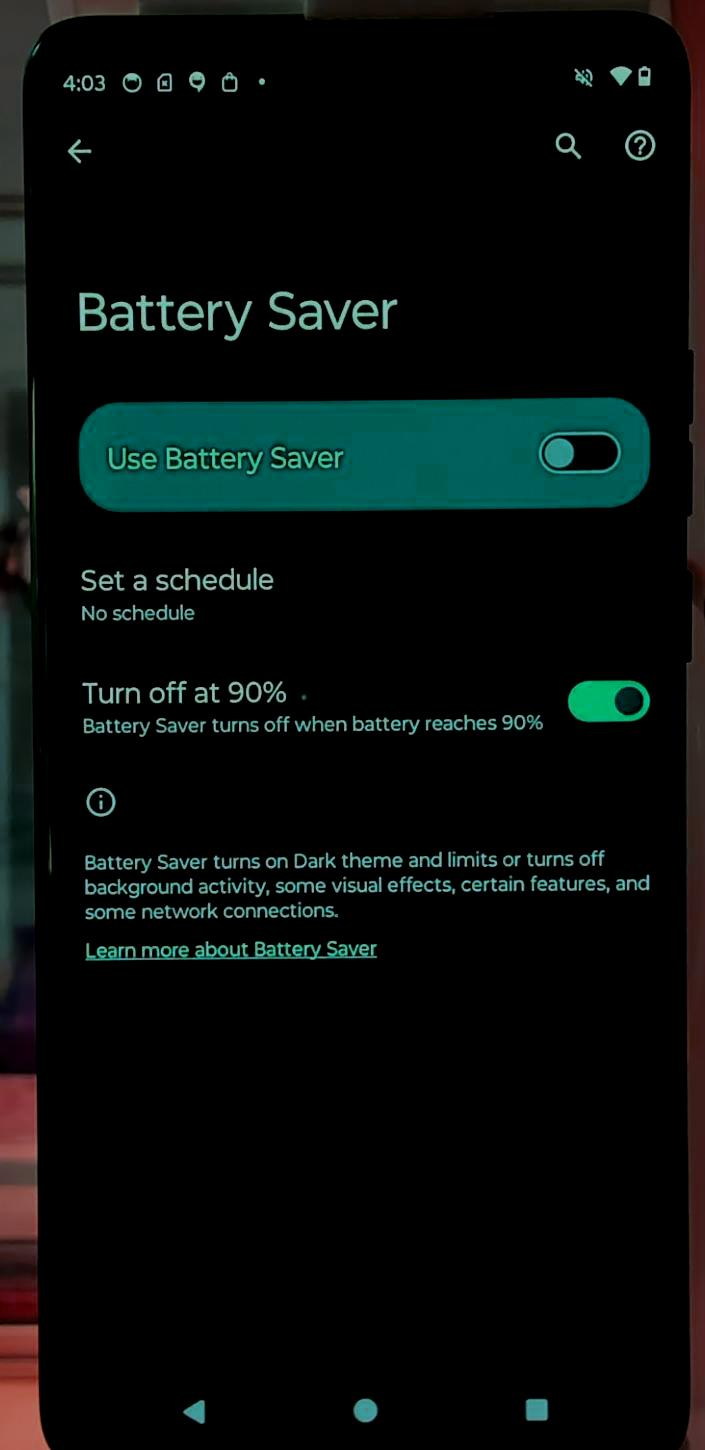Checkbox: (74, 670, 659, 752), (103, 422, 625, 483)
